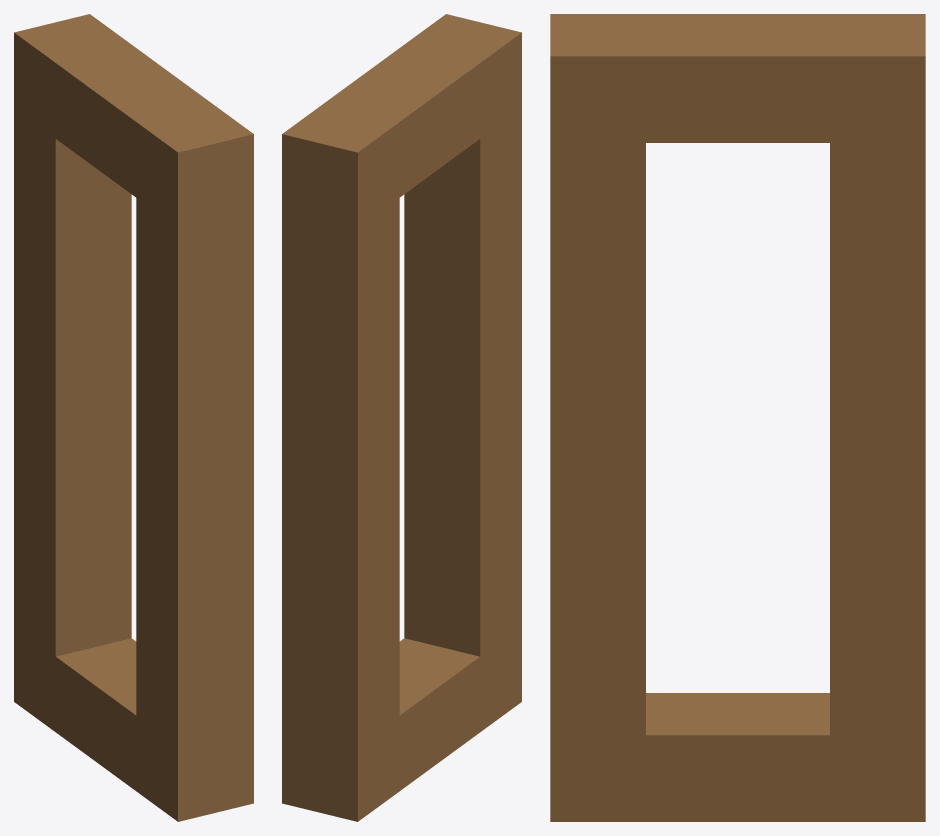
Rendered from modularBuildings_086.obj.
3 views of the same model, side by side, from view 1: azimuth 30°, elevation 25°; view 2: azimuth 150°, elevation 25°; view 3: azimuth 270°, elevation 25° (orthographic). The views are drawn at different scales.
Parts seen in each view (by area): view 1: Mesh1 Group1 Model; view 2: Mesh1 Group1 Model; view 3: Mesh1 Group1 Model.
Part boxes in pixels (x1,y1,x2,y2): Mesh1 Group1 Model: (14,14,253,821); Mesh1 Group1 Model: (282,14,521,821); Mesh1 Group1 Model: (550,14,925,821).
Bounding box in the file's own units: 0.05 × 0.4219 × 0.1875.
